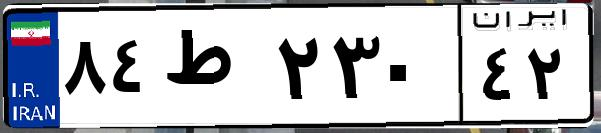0: (385, 28, 445, 110)
2: (270, 28, 330, 110), (525, 38, 570, 115)
3: (330, 28, 385, 110)
4: (475, 38, 525, 113), (110, 28, 158, 98)
8: (57, 26, 110, 100)
ط: (158, 20, 270, 120)
